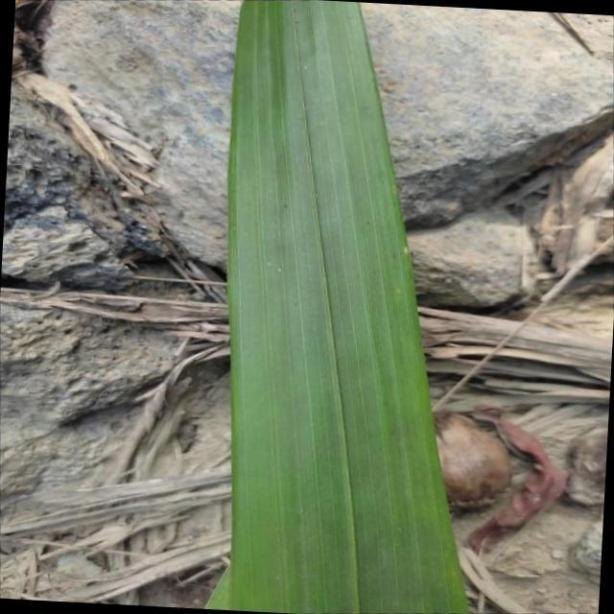Healthy: (226, 0, 468, 614)
